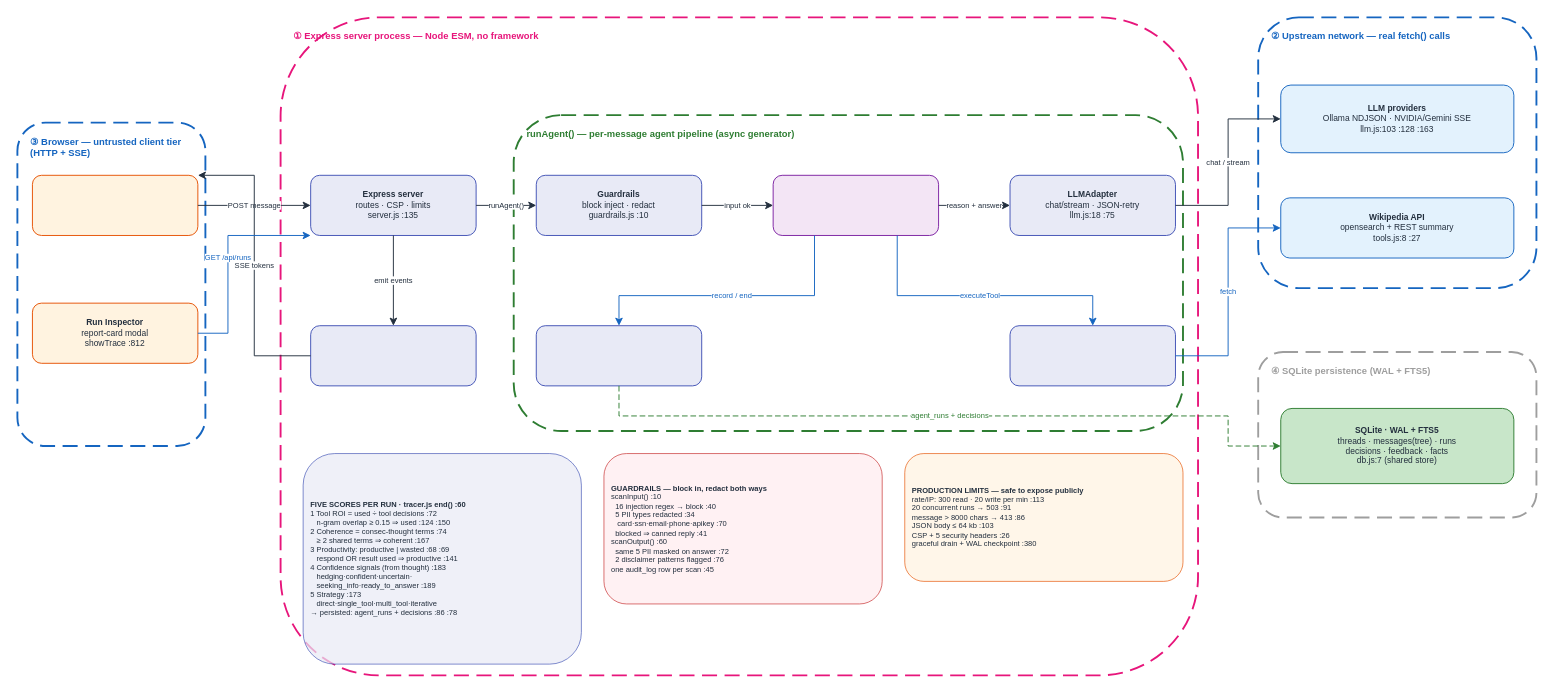
Image size: 1553x692. Some labels were removed from this diagram. The shapes that lost their labels are listed below. From the top down, each one's centre as x and y in pixels, then its label:
At point 114,204: "Chat UI SSE client · app.js EventSource :401".
At point 855,204: "runAgent() reason ≤8 → answer agent.js:9 :234".
At point 393,355: "StreamManager buffer + SSE replay streams.js :29".
At point 618,355: "AgentObserver 5 scores → report card tracer.js:3 :60".
At point 1092,355: "Tools · executeTool wiki search/read · calc tools.js:3 :72".
